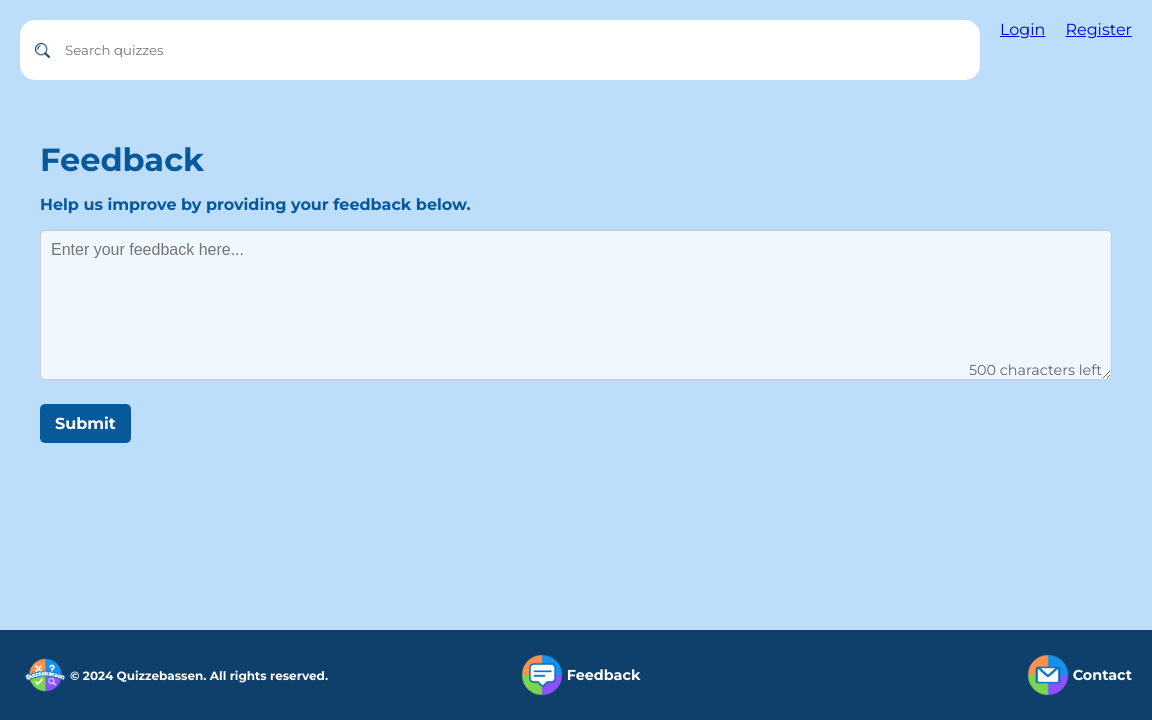
FeedbackView › should give message on empty feedback
Click the button "Submit".
click(86, 424)  # box [40,404,131,443]
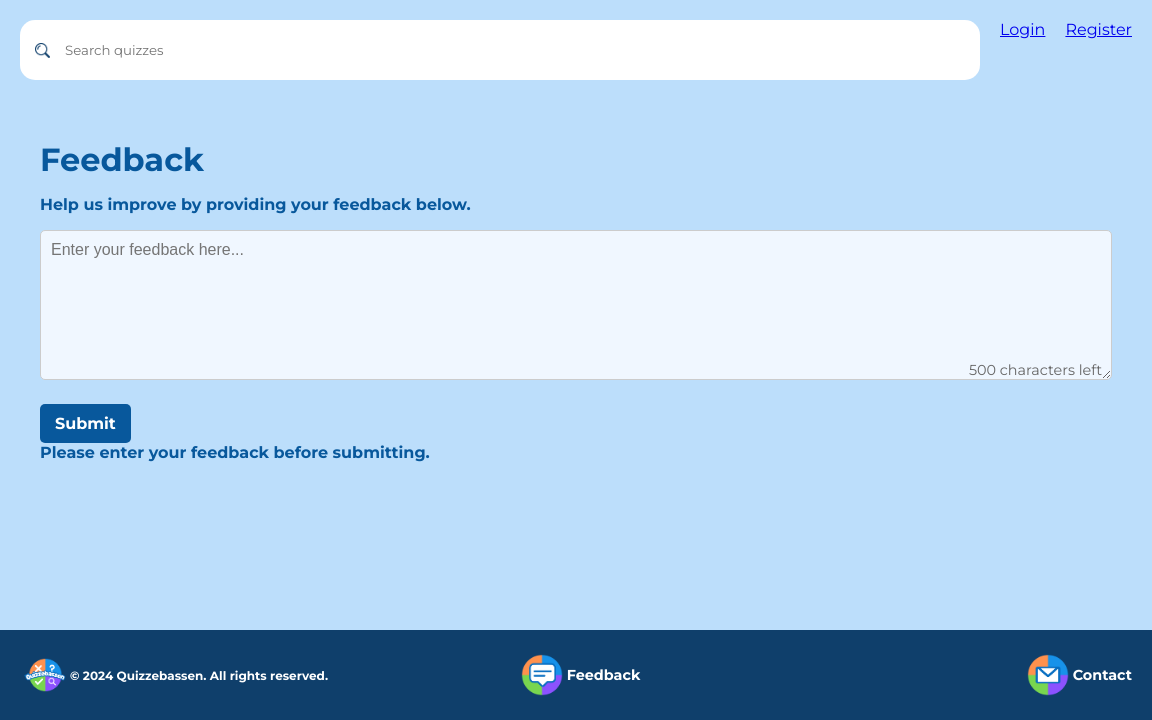
Expected: the element that starts with "Login" shows "Please enter your feedback before submitting."
